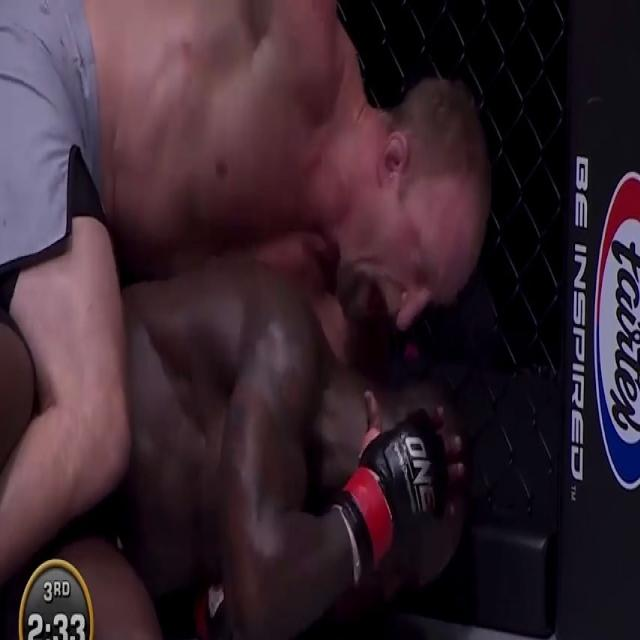fight: (0, 0, 495, 640)
